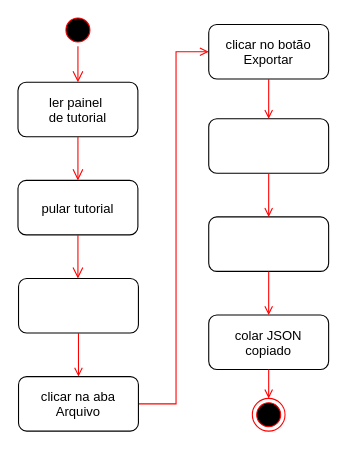
Some shapes in this 347 by 449 pixel diagram are drawn without their labels. Each missing label, with the centre of its shape:
copiar JSON disponibilizado na caixa de texto: the point at 268,145
criar arquivo .JSON: the point at 268,243
montar cena desejada: the point at 77,305
